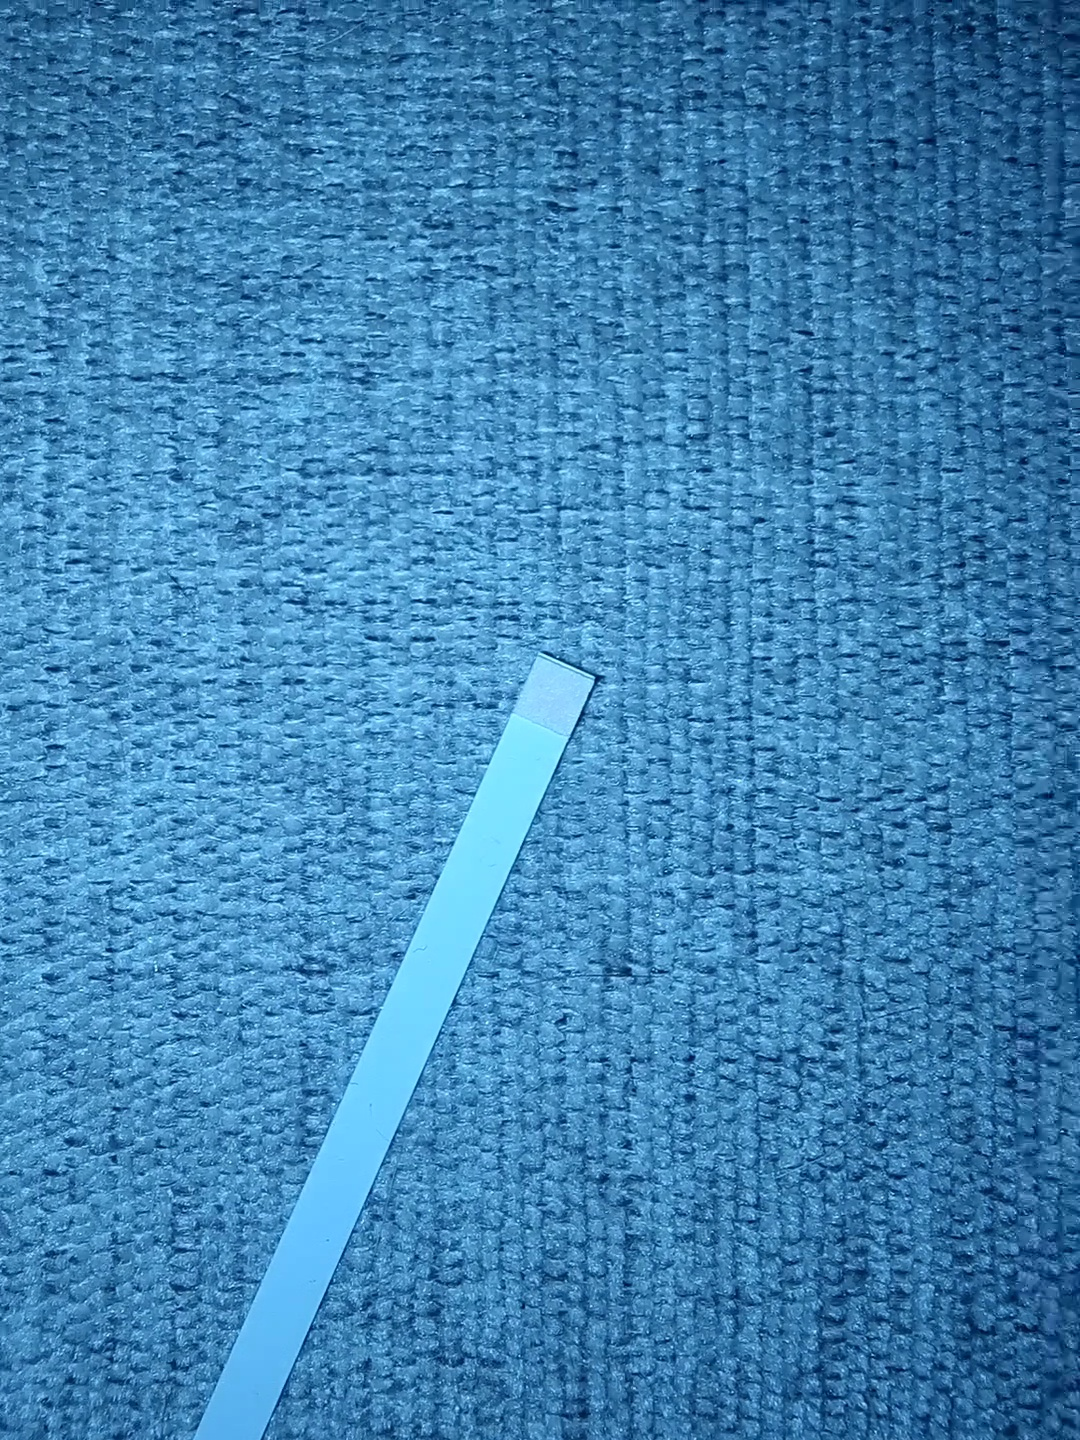keto-tip: (506, 649, 602, 745)
